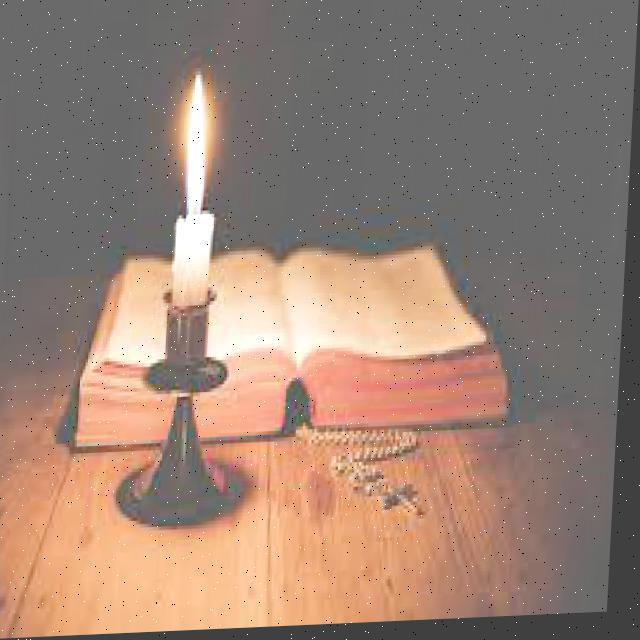Fire: (165, 62, 232, 218)
